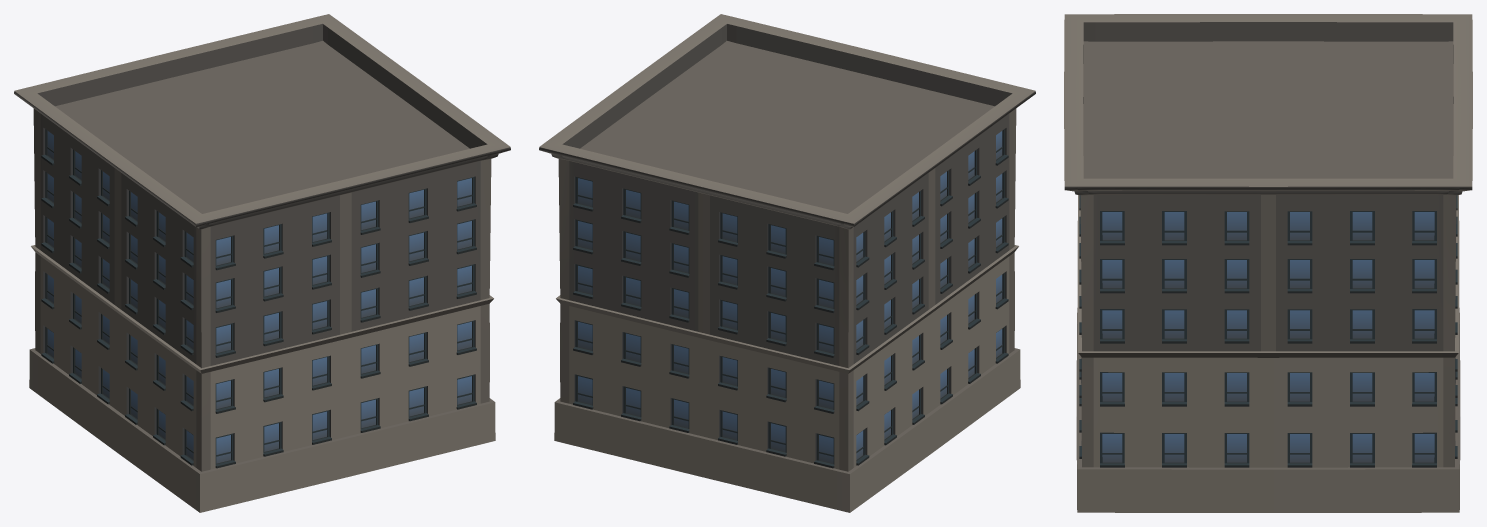
Rendered from buildings-residential-loft_v3.glb.
3 views of the same model, side by side, from view 1: azimuth 30°, elevation 25°; view 2: azimuth 150°, elevation 25°; view 3: azimuth 270°, elevation 25° (orthographic). The views are drawn at different scales.
Parts seen in each view (by area): view 1: Loft_v3_base, Loft_v3_windowRefl; view 2: Loft_v3_base, Loft_v3_windowRefl; view 3: Loft_v3_base, Loft_v3_windowRefl.
Part boxes in pixels (<box>): Loft_v3_base: <box>14,14,510,512</box>; Loft_v3_windowRefl: <box>47,131,471,463</box>; Loft_v3_base: <box>539,14,1035,512</box>; Loft_v3_windowRefl: <box>578,131,1002,463</box>; Loft_v3_base: <box>1064,14,1472,512</box>; Loft_v3_windowRefl: <box>1102,212,1434,462</box>.
Bounding box in the file's own units: 24.23 × 21.67 × 24.23.
